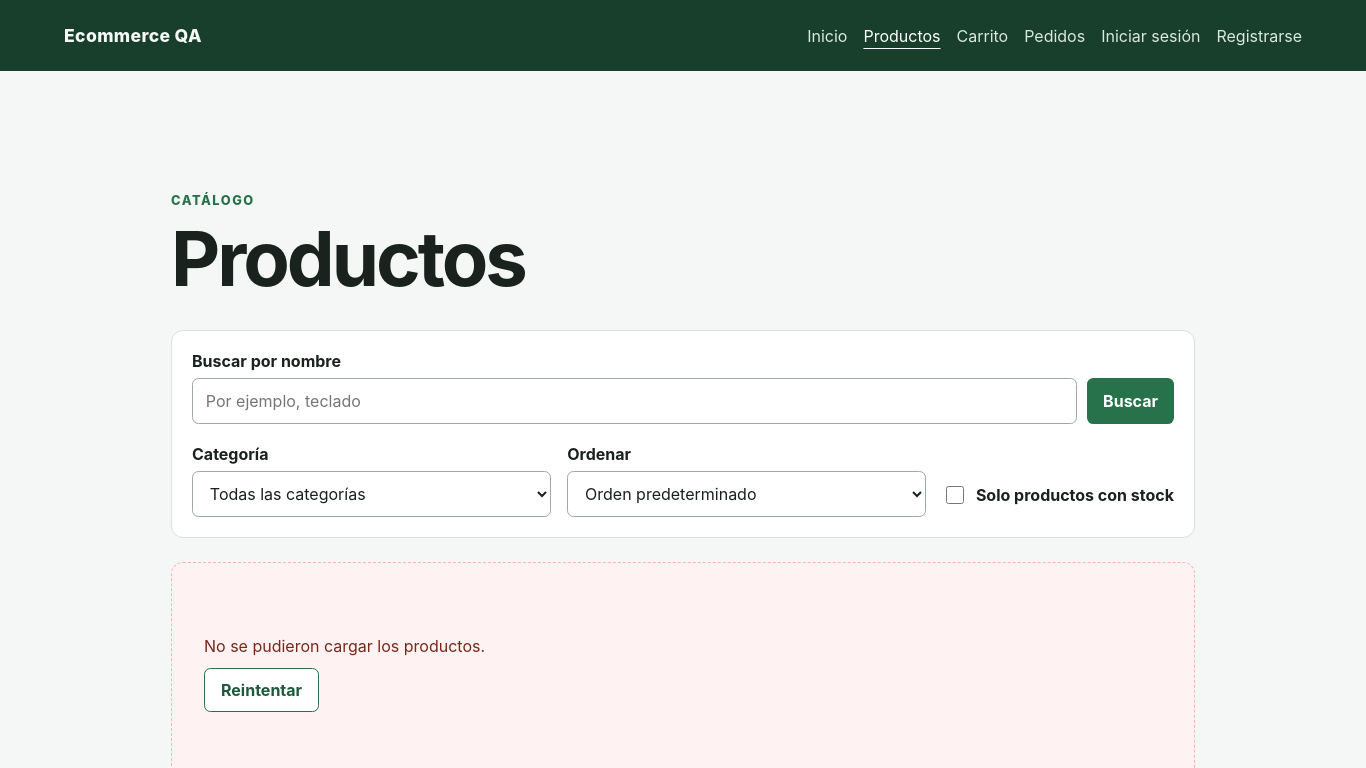
catálogo de productos › muestra el error y permite reintentar
Expected: the text "No se pudieron cargar los productos." is shown, left=204, top=636, right=485, bottom=656
Click the button "Reintentar" at (262, 690), box left=204, top=668, right=319, bottom=712
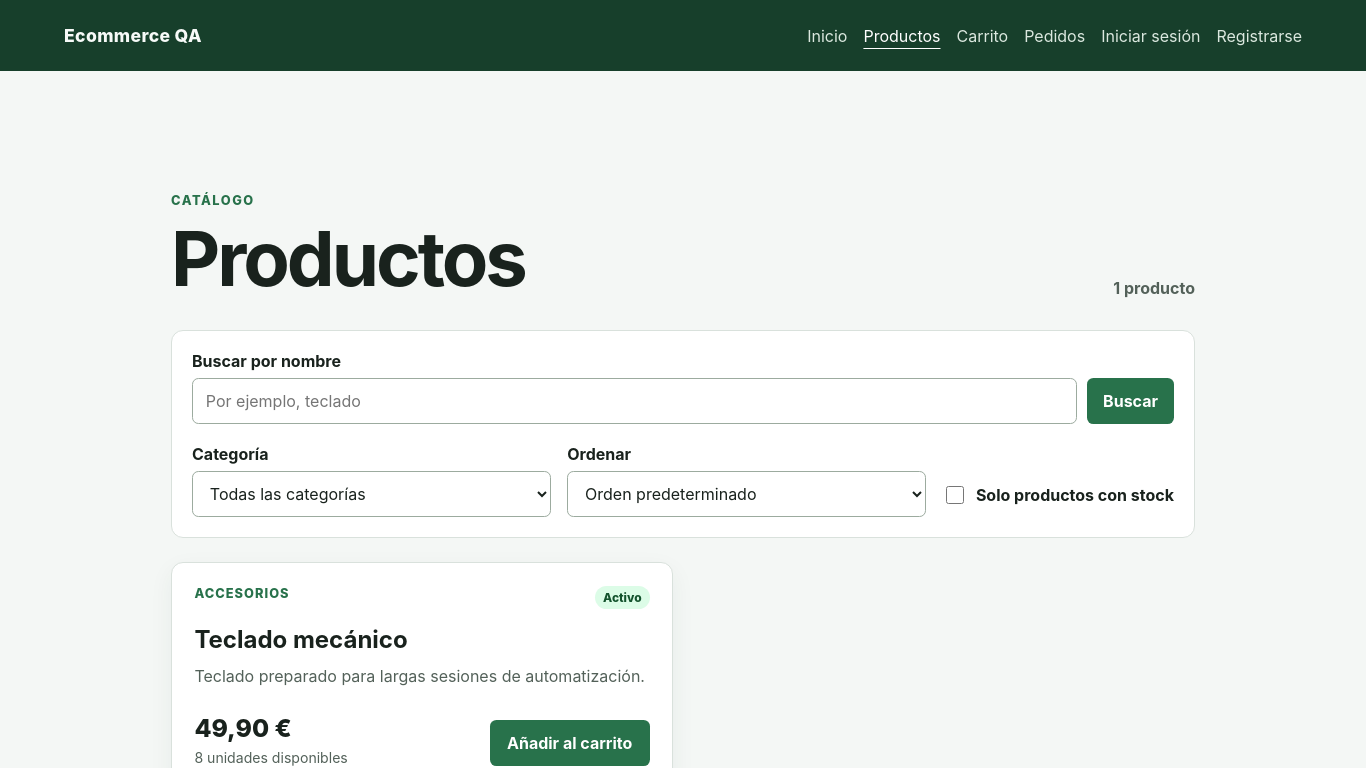
Result: the link "Teclado mecánico" is shown at left=194, top=624, right=408, bottom=654
